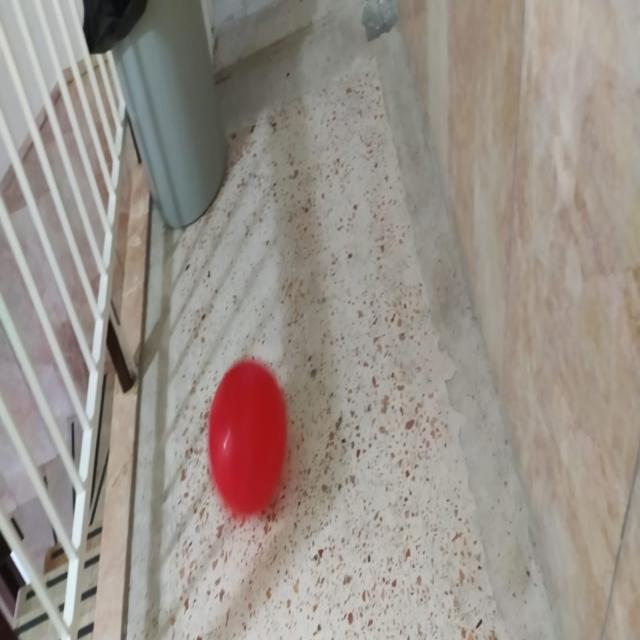red: (206, 356, 288, 521)
